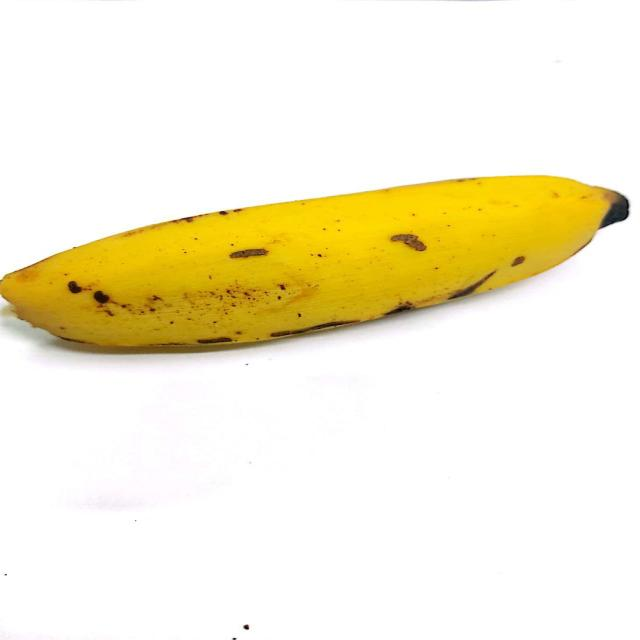fresh_banana: (4, 175, 631, 346)
